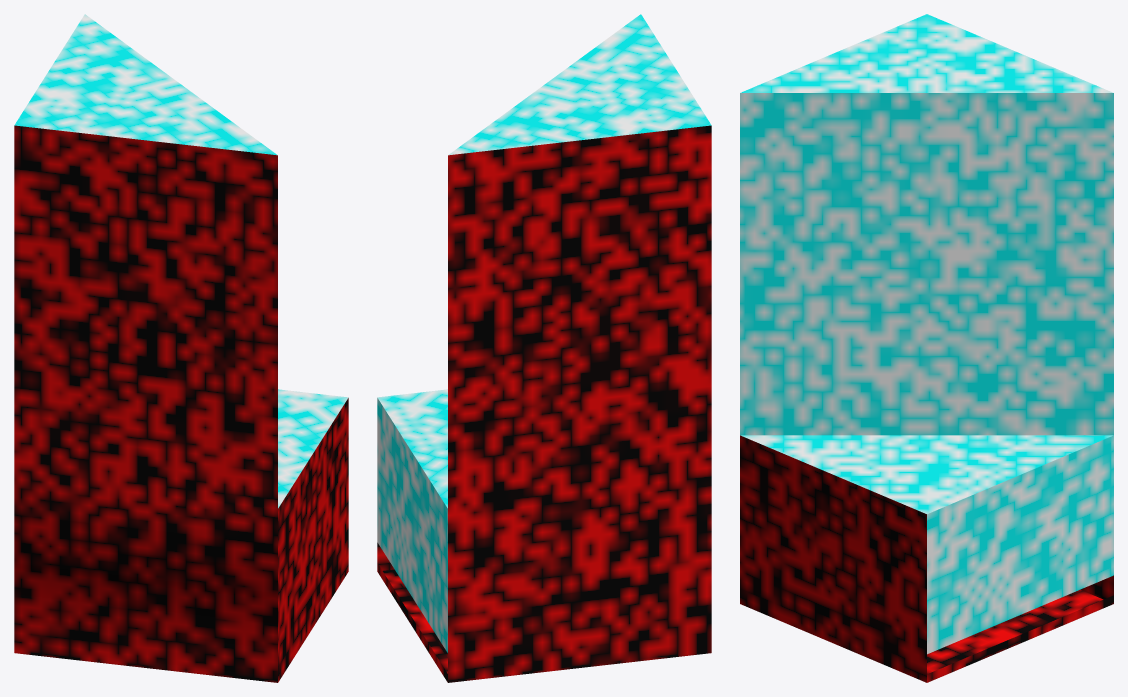
File: SM_MonadBless_Separate_07_GDH.fbx
3 renders of one model, left to right at view 1: azimuth 30°, elevation 25°; view 2: azimuth 150°, elevation 25°; view 3: azimuth 270°, elevation 25°, orthographic. The views are drawn at different scales.
Visible parts, largest first — view 1: SM_MonadBless_Separate_07_GDH; view 2: SM_MonadBless_Separate_07_GDH; view 3: SM_MonadBless_Separate_07_GDH.
Boxes of the visible parts, left/top/right/bottom form: SM_MonadBless_Separate_07_GDH: left=14, top=14, right=348, bottom=682; SM_MonadBless_Separate_07_GDH: left=377, top=14, right=711, bottom=682; SM_MonadBless_Separate_07_GDH: left=740, top=14, right=1113, bottom=682.
Size of the model in its own units: 10.07 by 15.35 by 10.07.
